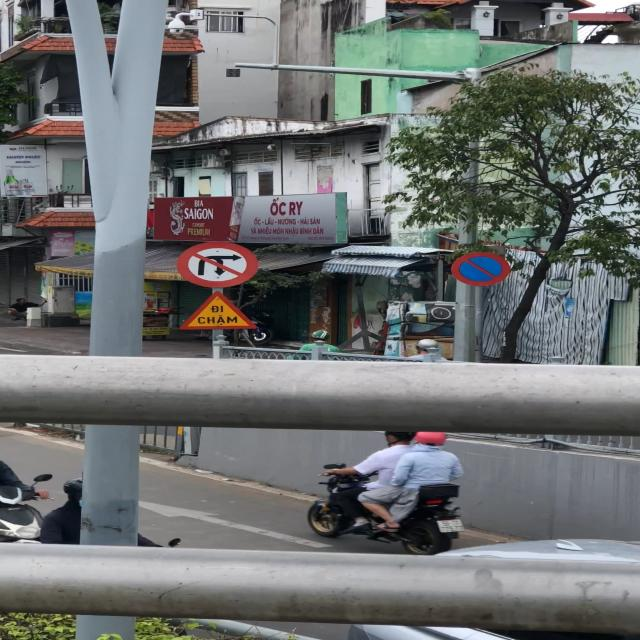Bien bao cam re phai va quay dau: (171, 239, 263, 290)
